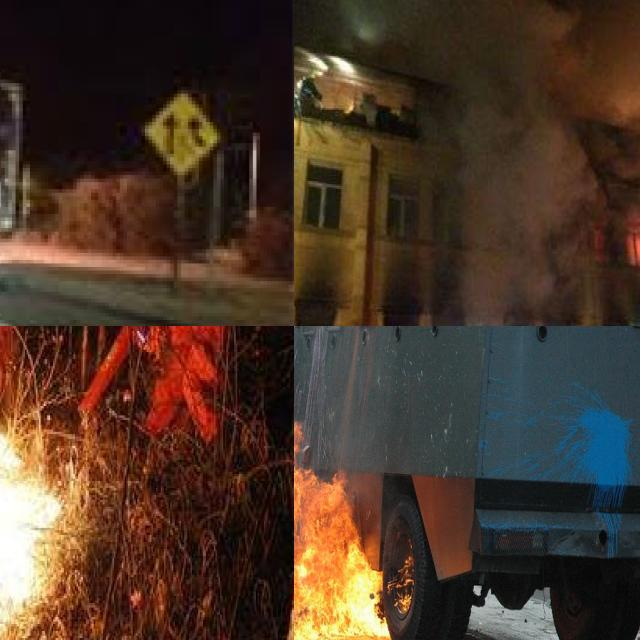fire: (294, 421, 399, 640)
smoke: (310, 0, 597, 326)
